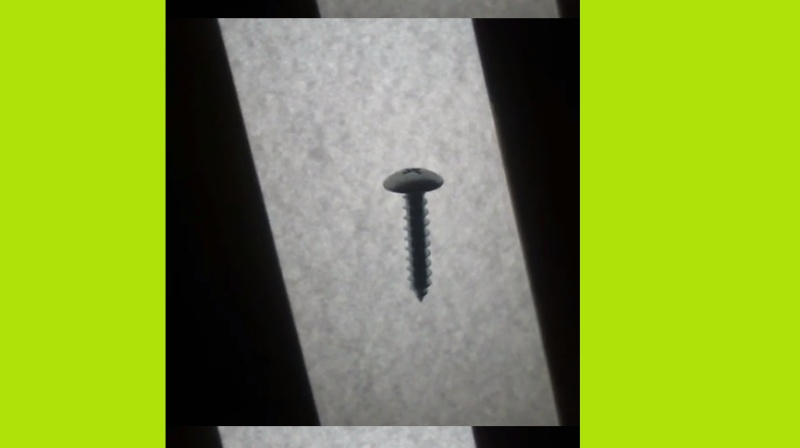S003: (380, 163, 446, 306)
